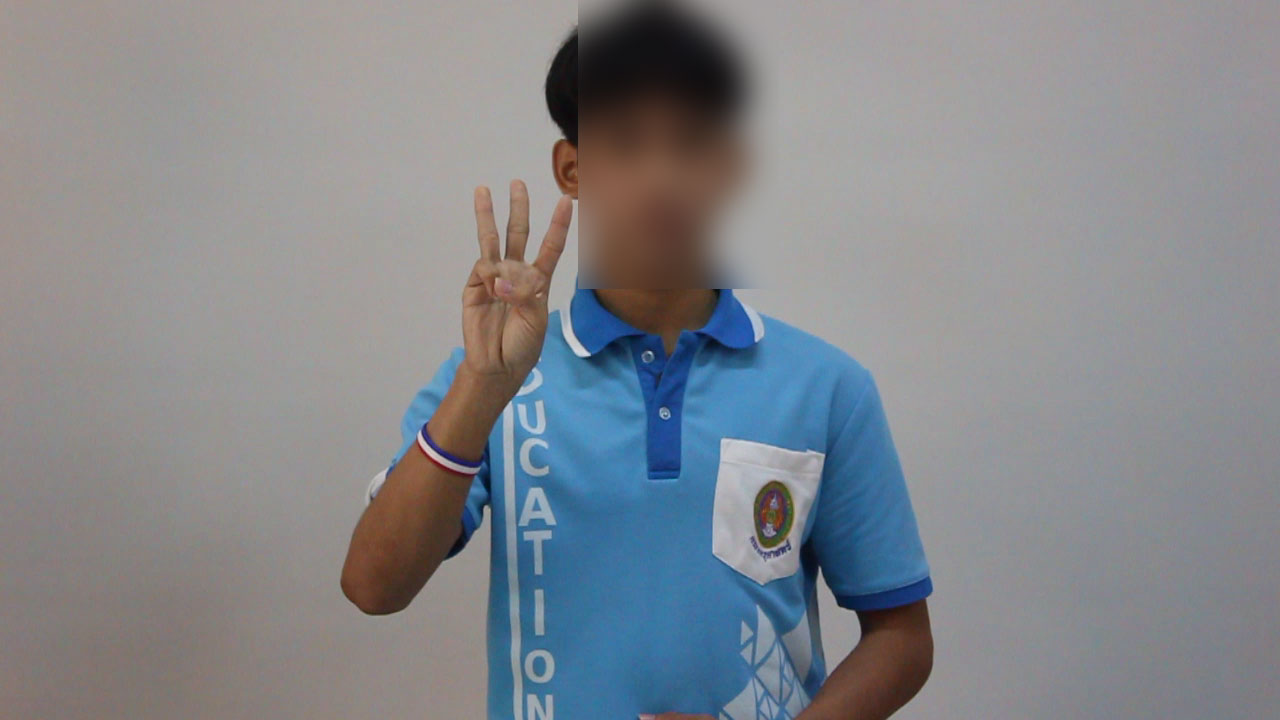wor: (453, 170, 579, 397)
